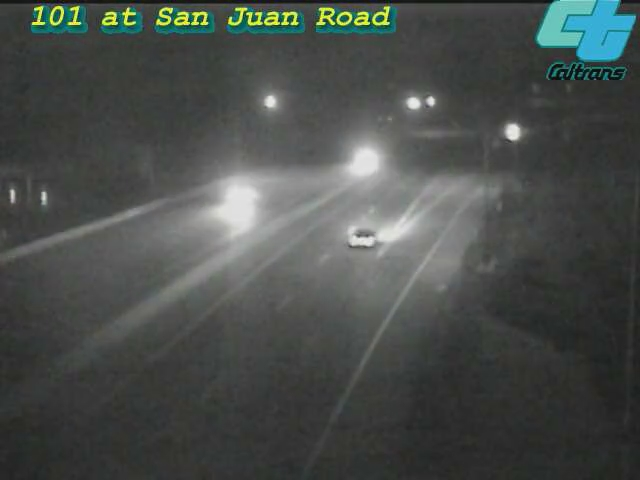vehicle: (197, 163, 277, 243), (322, 119, 402, 199), (321, 195, 401, 275), (487, 107, 537, 157)
